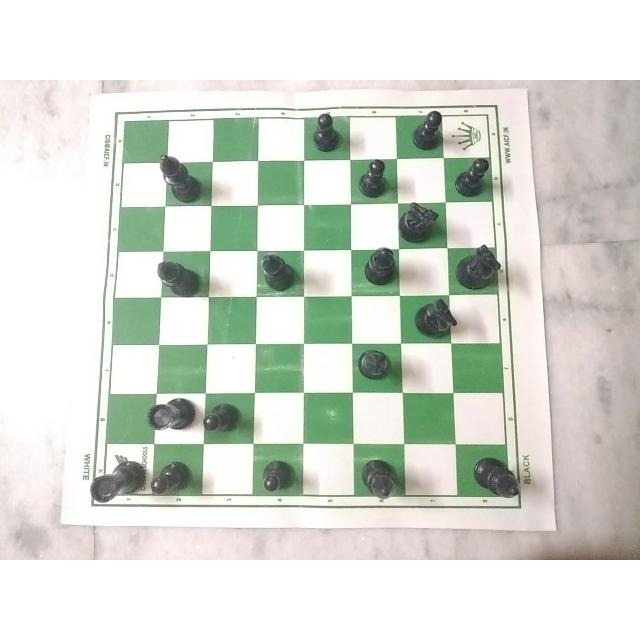black-bishop: (469, 452, 524, 504), (154, 148, 206, 198), (358, 453, 406, 505), (152, 256, 203, 300), (350, 344, 397, 388), (259, 249, 298, 293), (363, 243, 396, 292)
black-knight: (397, 199, 443, 246), (460, 243, 507, 287), (414, 297, 458, 338)
black-pawn: (148, 455, 202, 499), (205, 396, 253, 436), (305, 109, 344, 156), (255, 457, 303, 493), (454, 155, 493, 195), (411, 105, 446, 149), (356, 154, 390, 194)
black-rook: (81, 457, 142, 509), (147, 390, 197, 445)
